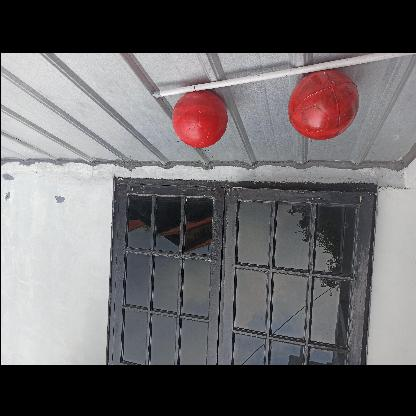red_ball: (286, 70, 358, 141), (171, 90, 228, 148)
